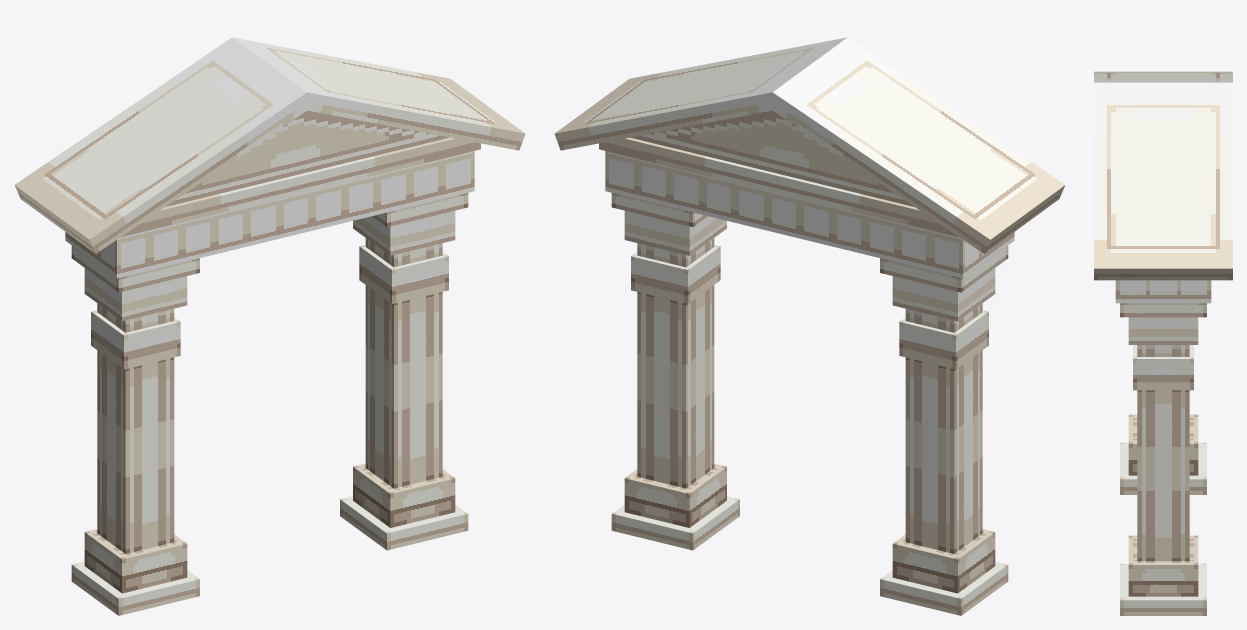
File: marble-portal.gltf
3 views of the same model, side by side, from view 1: azimuth 30°, elevation 25°; view 2: azimuth 150°, elevation 25°; view 3: azimuth 270°, elevation 25° (orthographic). The views are drawn at different scales.
Visible parts, largest first — view 1: cube (×17); view 2: cube (×17); view 3: cube (×11).
Boxes of the visible parts, x1,y1,x2,y2 form: cube (×17): (14, 37, 525, 615); cube (×17): (554, 37, 1065, 615); cube (×11): (1094, 71, 1232, 615).
Bounding box in the file's own units: 6.7 × 7.22 × 2.
Materials: 1 (1 with a texture image).
